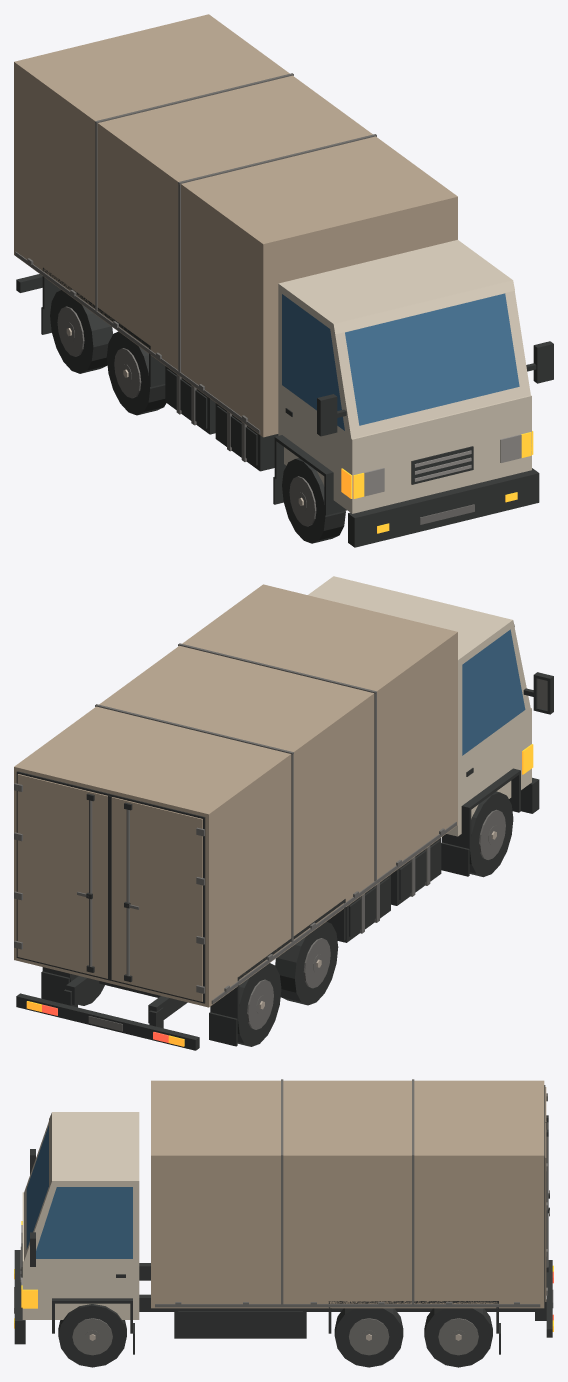
Rendered from ford's main quest cargo_truck.fbx.
3 views of the same model, one above another, from view 1: azimuth 30°, elevation 25°; view 2: azimuth 150°, elevation 25°; view 3: azimuth 270°, elevation 25° (orthographic). The views are drawn at different scales.
Visible parts, largest first — view 1: Cargo_Truck.001, Cargo_Truck.005, Cargo_Truck.007, Cargo_Truck.004; view 2: Cargo_Truck.001, Cargo_Truck.004, Cargo_Truck.007, Cargo_Truck.005; view 3: Cargo_Truck.001, Cargo_Truck.002, Cargo_Truck.006, Cargo_Truck.003.
Boxes of the visible parts, x1=… form: Cargo_Truck.001: x1=14, y1=14, x2=553, y2=547; Cargo_Truck.005: x1=50, y1=290, x2=112, y2=373; Cargo_Truck.007: x1=282, y1=458, x2=345, y2=543; Cargo_Truck.004: x1=106, y1=331, x2=166, y2=415; Cargo_Truck.001: x1=14, y1=576, x2=553, y2=1050; Cargo_Truck.004: x1=275, y1=921, x2=338, y2=1005; Cargo_Truck.007: x1=469, y1=791, x2=513, y2=877; Cargo_Truck.005: x1=237, y1=963, x2=281, y2=1046; Cargo_Truck.001: x1=14, y1=1079, x2=553, y2=1354; Cargo_Truck.002: x1=334, y1=1308, x2=403, y2=1367; Cargo_Truck.006: x1=424, y1=1308, x2=492, y2=1367; Cargo_Truck.003: x1=58, y1=1304, x2=126, y2=1367.
Size of the model in its own units: 273 by 303 by 693.
